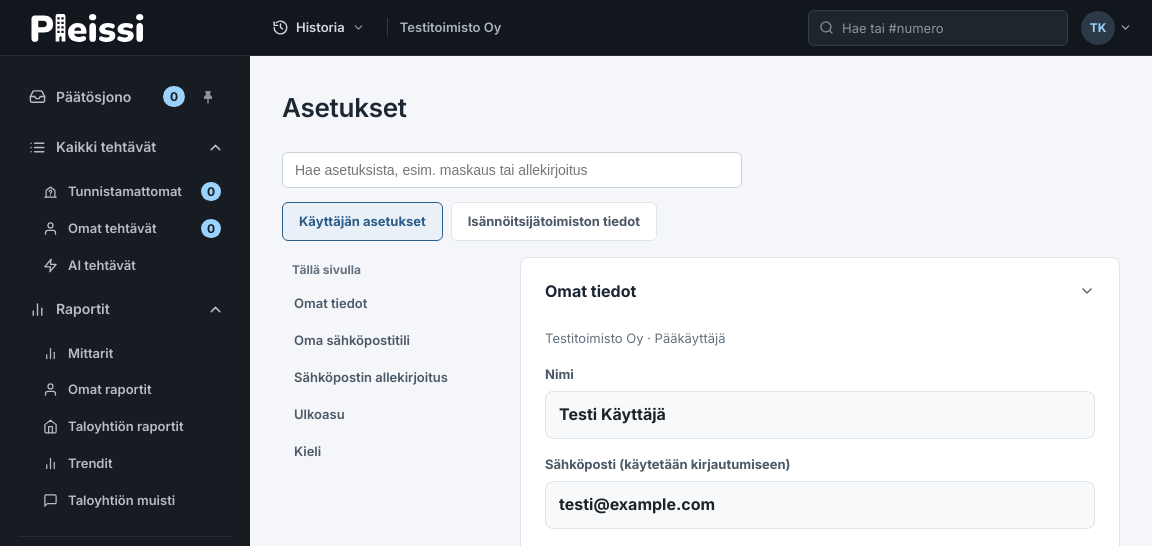
Test case: sovellus › näyttää toimiston asetukset ja sähköpostitilin, vaikka taloyhtiöitä ei ole
The width and height of the screenshot is (1152, 546).
Step 1. Click the tab "Isännöitsijätoimiston tiedot" → (554, 221), box [451,202,657,241]
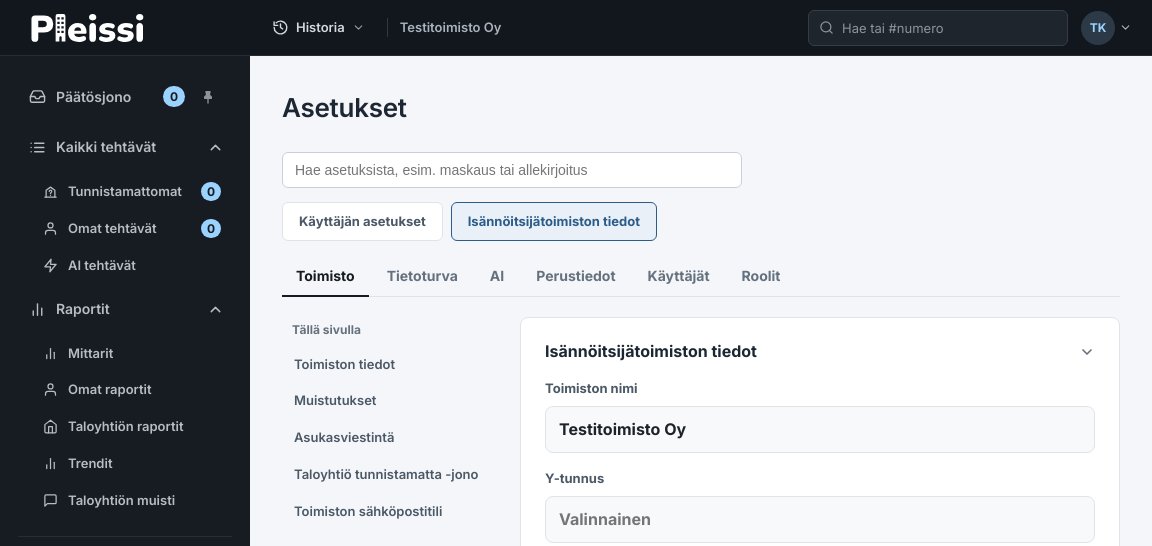
Expected: the button "Toimiston sähköpostitili" is shown, [282,494,492,529]
